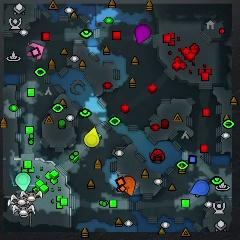p1: (190, 180, 211, 196)
p2: (15, 172, 32, 191)
p3: (134, 24, 151, 45)
p4: (84, 126, 100, 147)
p5: (118, 176, 137, 196)
x1: (25, 43, 45, 61)
